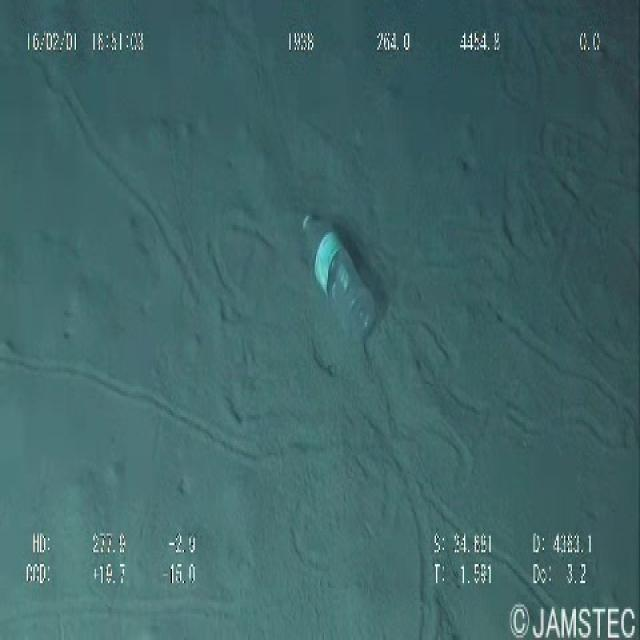plastic: (291, 199, 381, 351)
